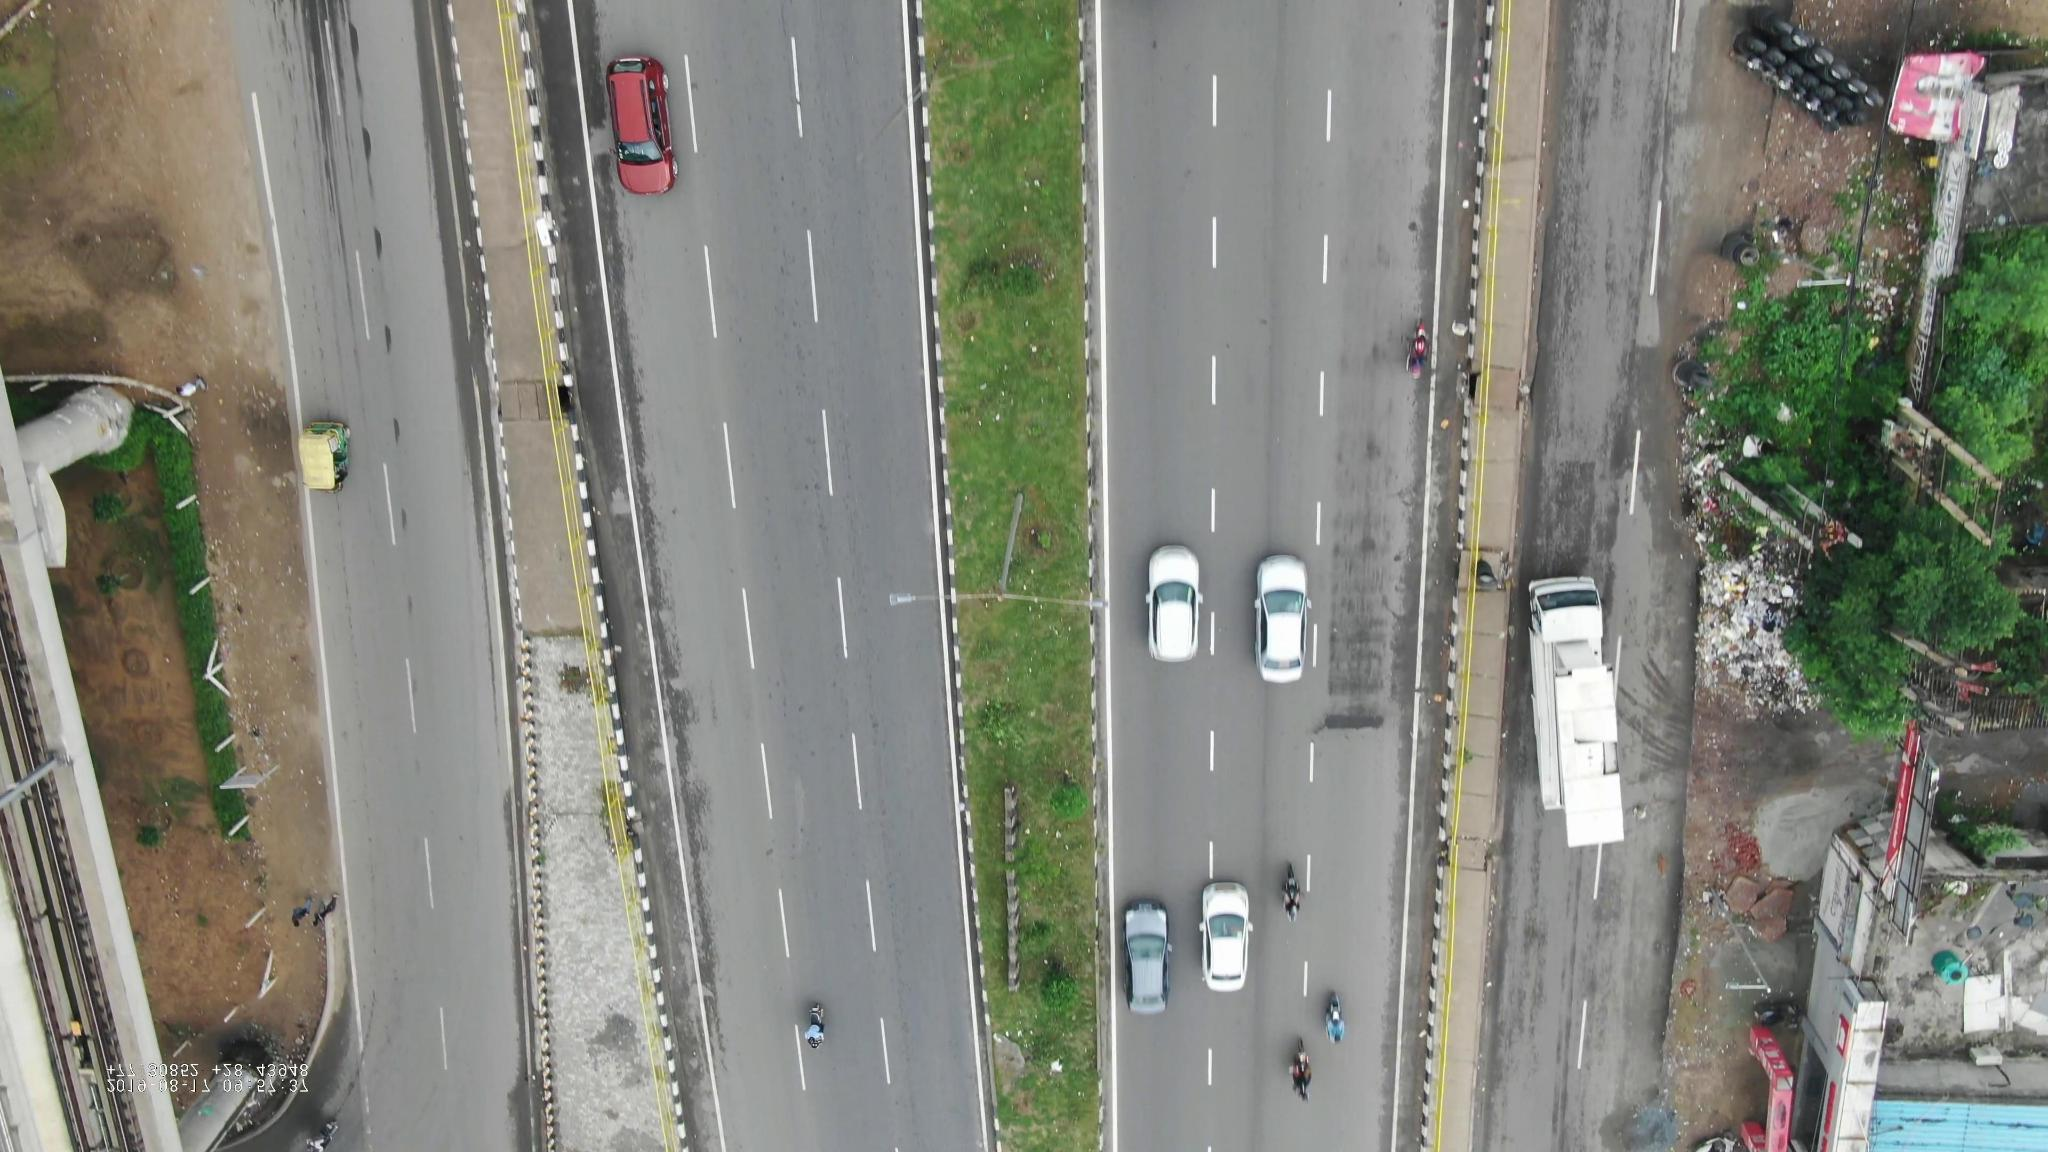Road_side_garbage: (1688, 556, 1796, 724)
